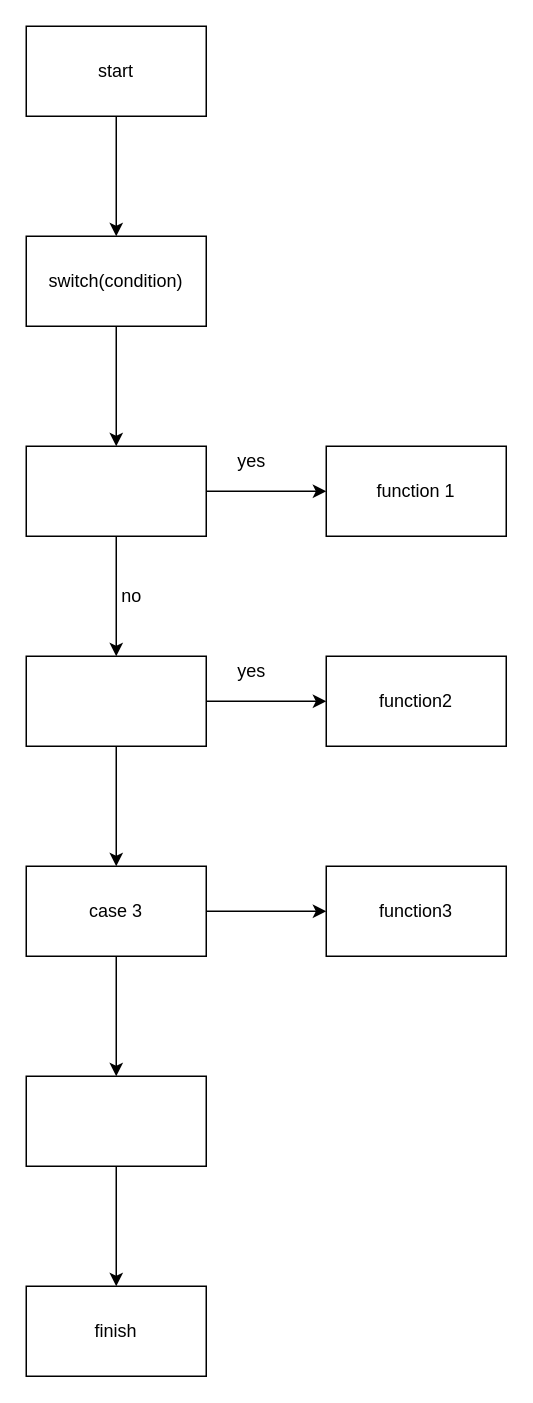
Some shapes in this 533 by 1403 pixel diagram are drawn without their labels. Each missing label, with the box of its shape:
case 1: (25, 445, 206, 536)
case 2: (25, 655, 206, 746)
Default: (25, 1075, 206, 1166)
